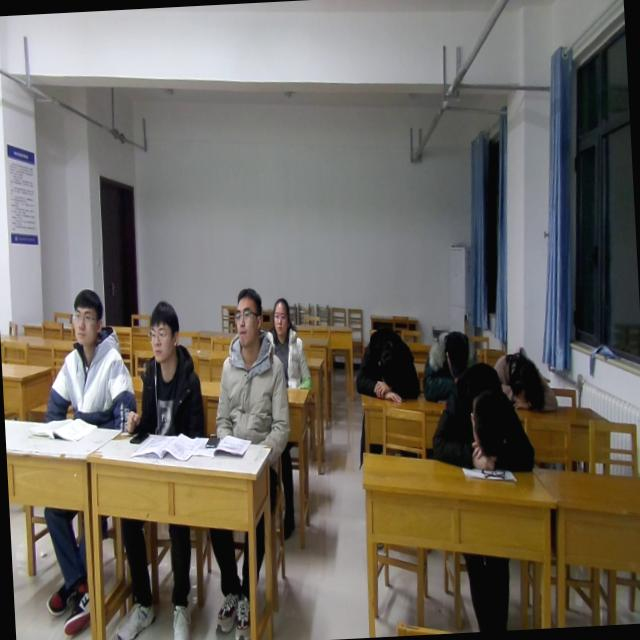bow: (427, 356, 539, 477), (352, 322, 425, 408), (420, 324, 486, 406), (493, 339, 561, 417)
lookup: (146, 296, 184, 364), (230, 280, 266, 350), (68, 284, 104, 349), (268, 292, 294, 344)
sit: (38, 282, 139, 433), (209, 284, 293, 450), (120, 300, 206, 438), (262, 294, 314, 396)
